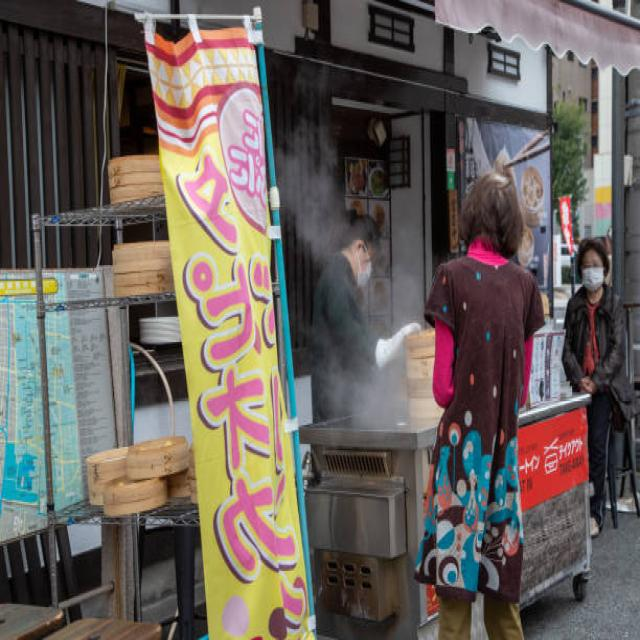Emperan: (267, 78, 639, 640)
